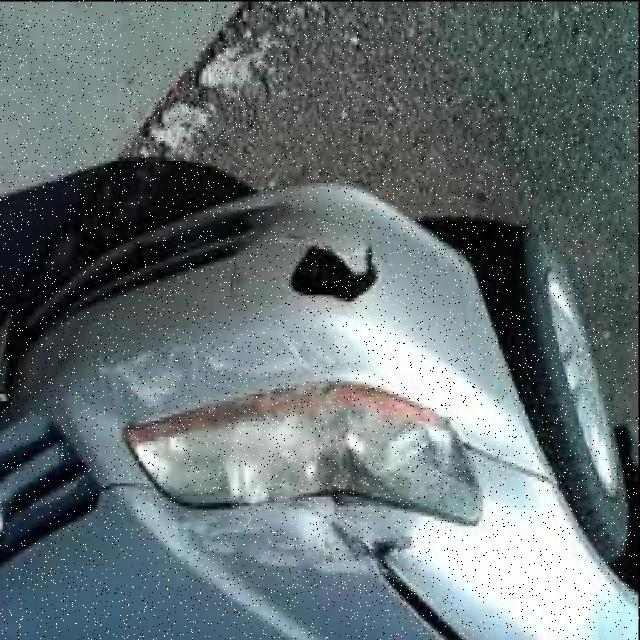damage: (103, 229, 444, 595)
